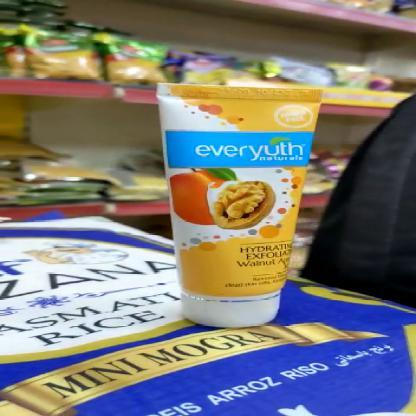EY HYD-EXF WALNT APR SCRUB AYR100G: (158, 85, 325, 328)
